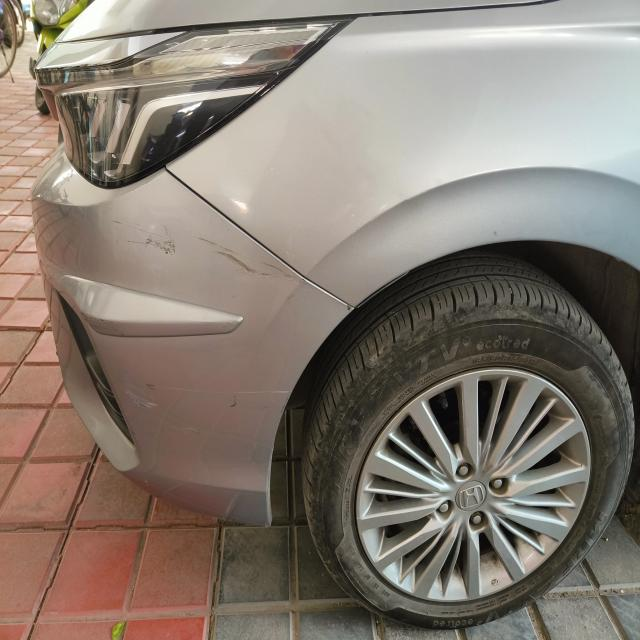scratch: (195, 235, 307, 285), (163, 379, 289, 410), (111, 216, 180, 269), (118, 371, 160, 420), (173, 421, 210, 437)
